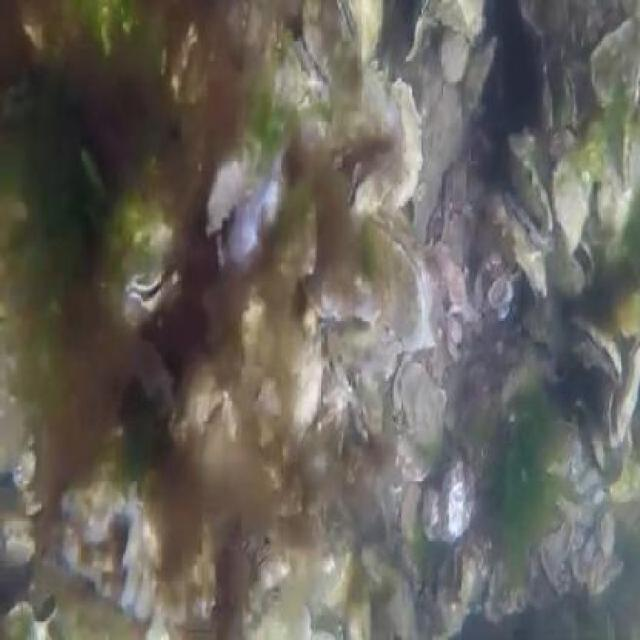Oyster-Closed: (359, 214, 430, 347), (384, 82, 422, 209), (569, 312, 623, 382), (336, 0, 385, 57), (505, 190, 549, 251), (620, 82, 640, 193), (552, 69, 576, 135), (255, 544, 289, 588)
Oyster-Indeterminate: (95, 188, 181, 317), (301, 0, 364, 106), (511, 130, 554, 237), (591, 17, 640, 106), (552, 151, 594, 253), (399, 363, 444, 455), (238, 593, 312, 640), (463, 37, 495, 120), (438, 465, 474, 538), (345, 561, 373, 640), (439, 30, 472, 84), (363, 540, 387, 587), (597, 509, 614, 558)
Oyster-Open: (206, 151, 281, 269), (611, 341, 640, 444), (272, 37, 313, 108), (546, 237, 593, 297), (348, 154, 388, 218), (454, 546, 477, 602), (559, 128, 581, 151)
